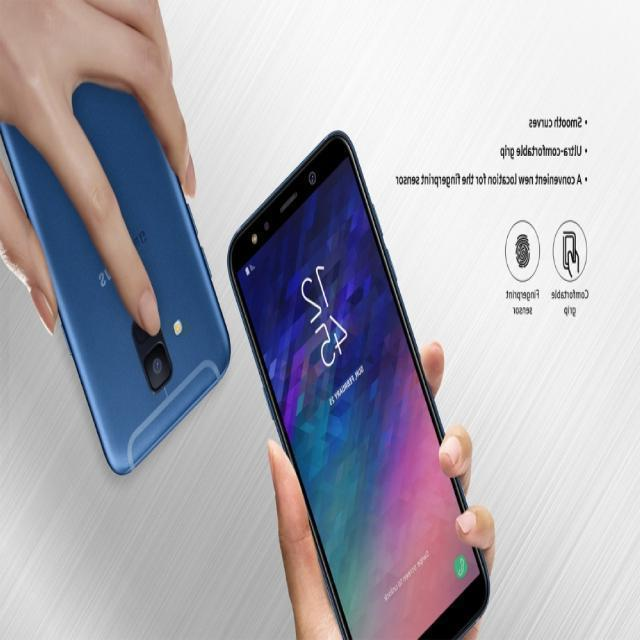mobile: (231, 119, 496, 639), (1, 16, 231, 483)
